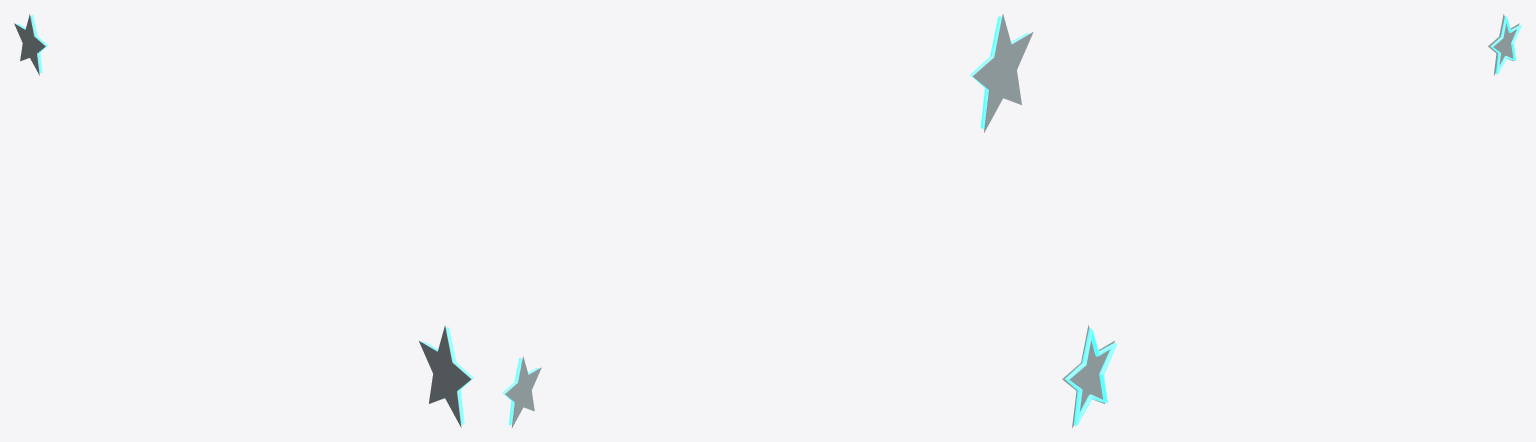
The picture shows the model from 3 angles, left to right: view 1: azimuth 30°, elevation 25°; view 2: azimuth 150°, elevation 25°; view 3: azimuth 330°, elevation 25°; orthographic projection. The views are drawn at different scales.
Visible parts, largest first — view 1: star_big_backer, star_mid_backer, star_big_tube; view 2: star_big_backer, star_mid_backer, star_big_tube; view 3: star_big_backer, star_big_tube, star_mid_backer, star_mid_tube.
Boxes of the visible parts, left/top/right/bottom form: star_big_backer: left=419, top=325, right=471, bottom=427; star_mid_backer: left=14, top=14, right=45, bottom=75; star_big_tube: left=422, top=327, right=473, bottom=424; star_big_backer: left=972, top=14, right=1033, bottom=132; star_mid_backer: left=505, top=356, right=541, bottom=427; star_big_tube: left=970, top=16, right=1029, bottom=128; star_big_backer: left=1062, top=325, right=1114, bottom=427; star_big_tube: left=1065, top=328, right=1116, bottom=425; star_mid_backer: left=1488, top=14, right=1519, bottom=75; star_mid_tube: left=1490, top=16, right=1521, bottom=74.
Size of the model in its own units: 0.0507 by 1.07 by 9.09.
